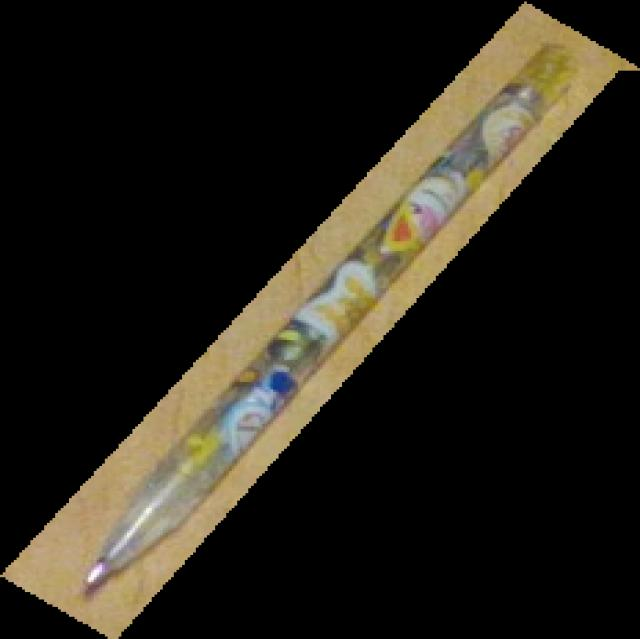yellow: (1, 1, 640, 639)
